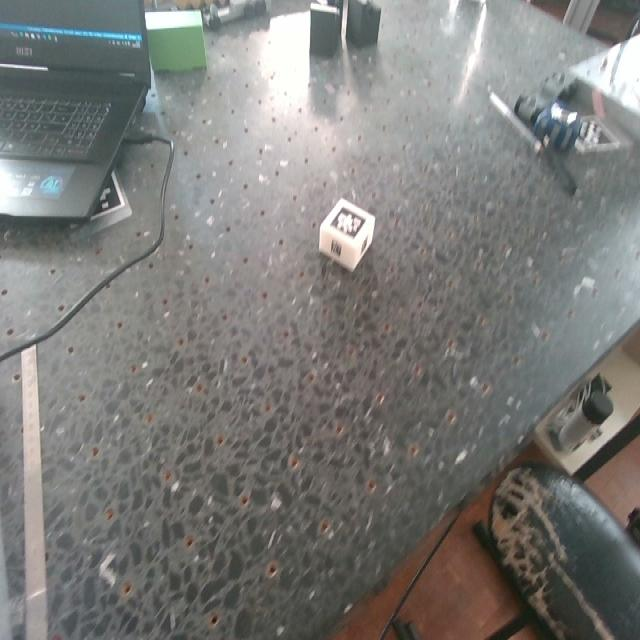Cube: (317, 200, 377, 273)
